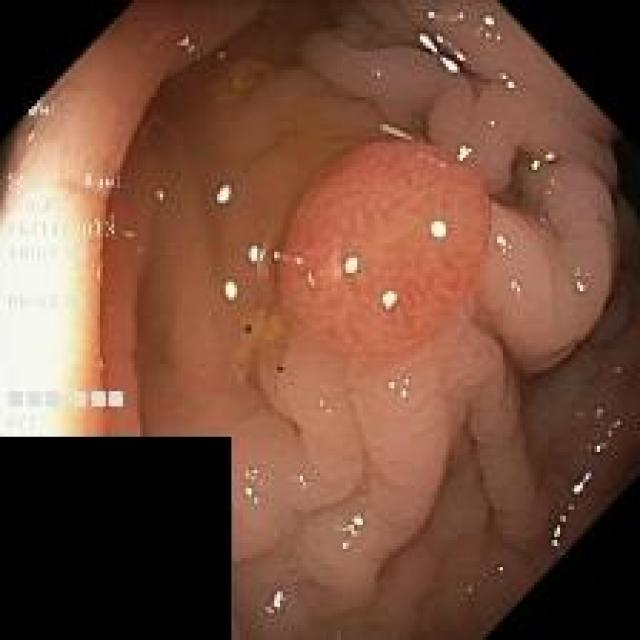Polyps: (279, 143, 491, 354)
